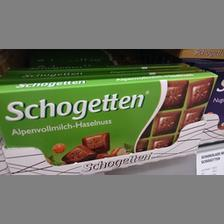Schokolade: (2, 72, 214, 164)
